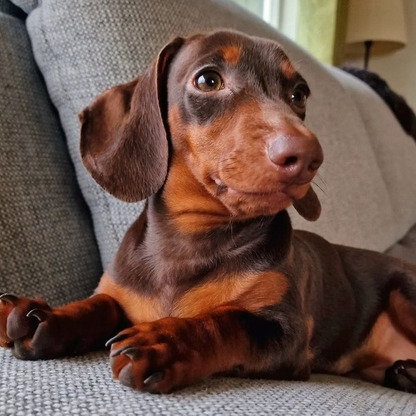dachshund: (74, 42, 361, 375)
